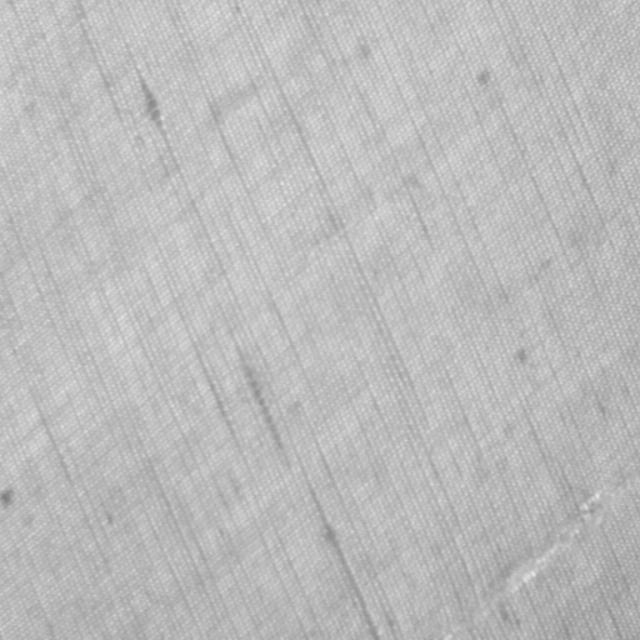thread error: (446, 482, 620, 638)
